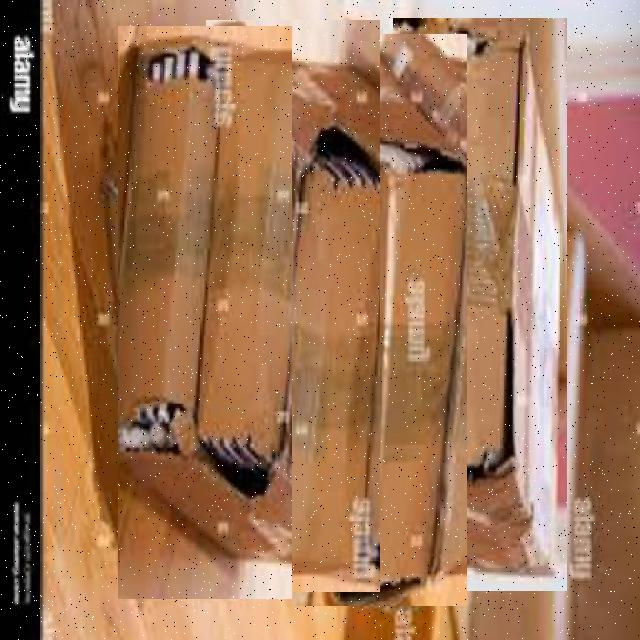defect: (392, 18, 566, 591), (117, 26, 291, 599), (292, 34, 466, 606), (204, 20, 378, 592)
